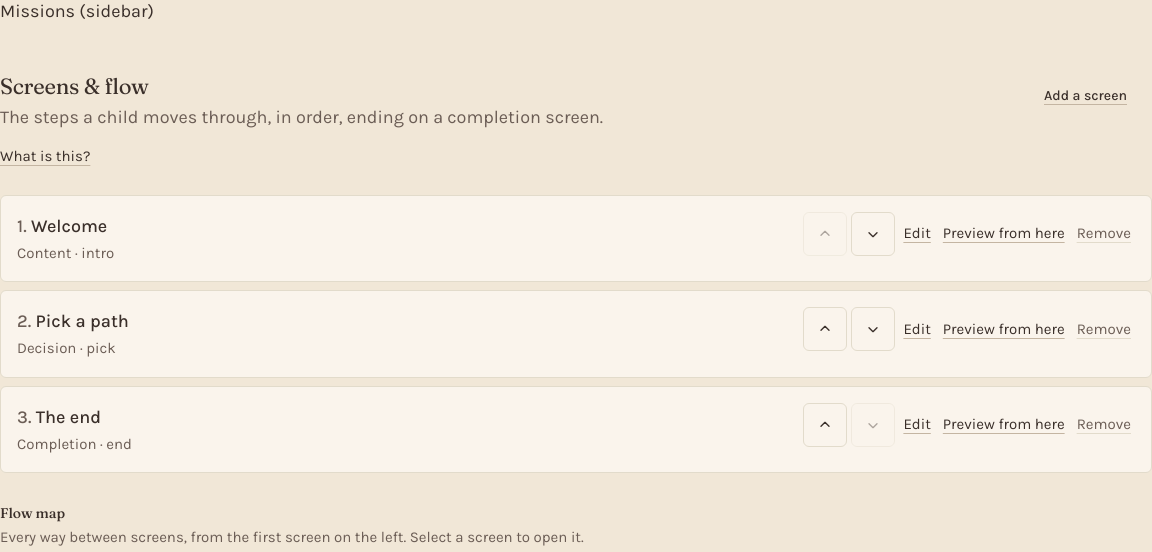
it: unsaved changes are never lost silently (D-118) › switching screens with an unsaved edit asks first, and Keep editing keeps it
The image size is (1152, 552).
Click the button "Edit" in the row of "intro": [917, 234] box top-left (899, 212), bottom-right (935, 256)
(page scrolled)
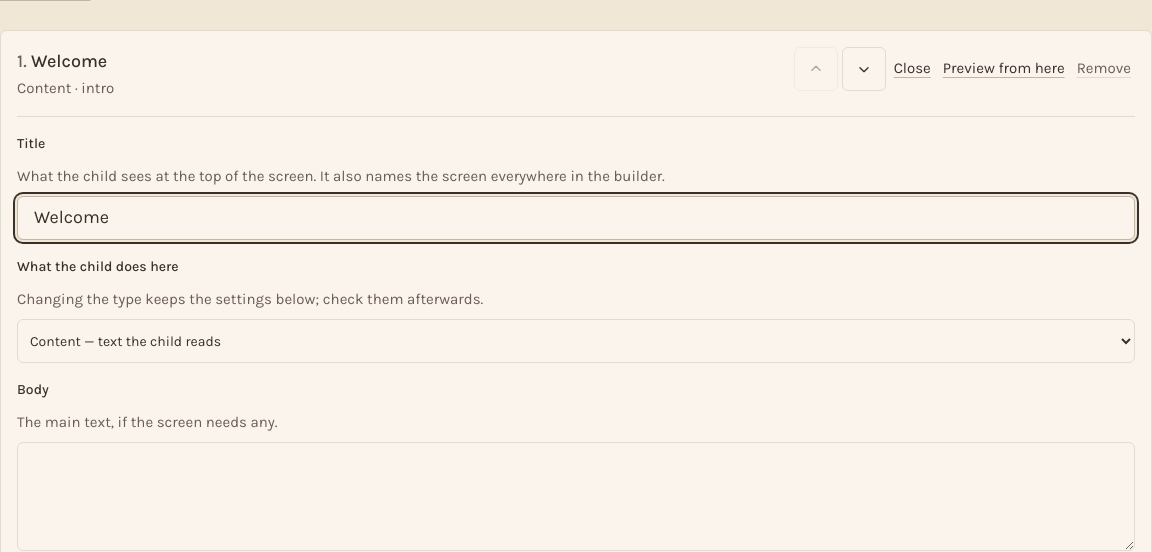
Replace the text in the field labelled "Title" with "Welcome, explorer": [576, 218] box top-left (17, 196), bottom-right (1135, 240)
(page scrolled)
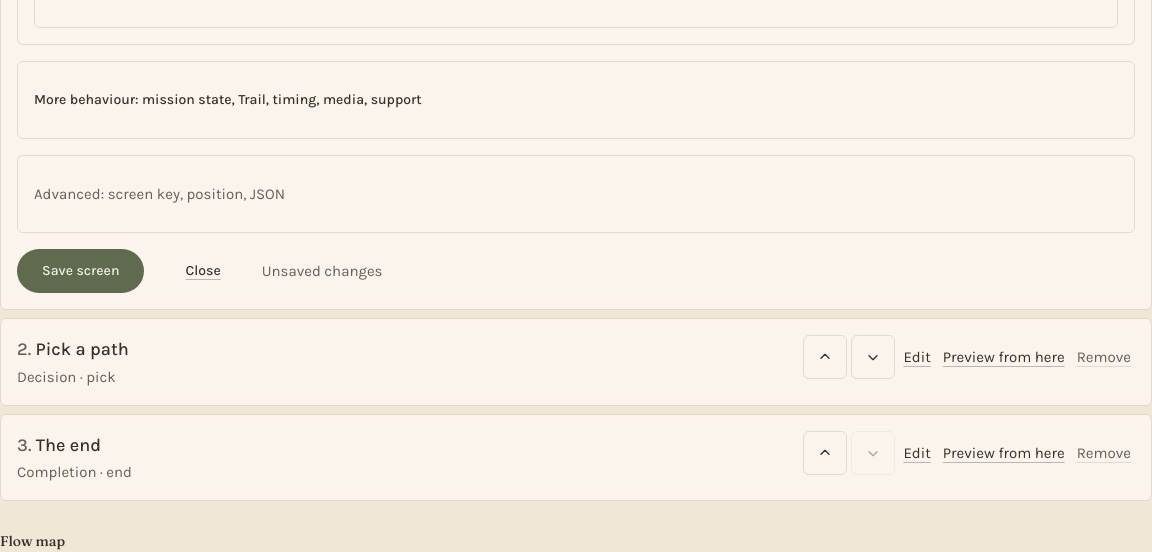
Result: the text "Unsaved changes" is shown at top-left (262, 259), bottom-right (382, 284)
Click the 1st button "Edit": [917, 357] box top-left (899, 335), bottom-right (935, 379)
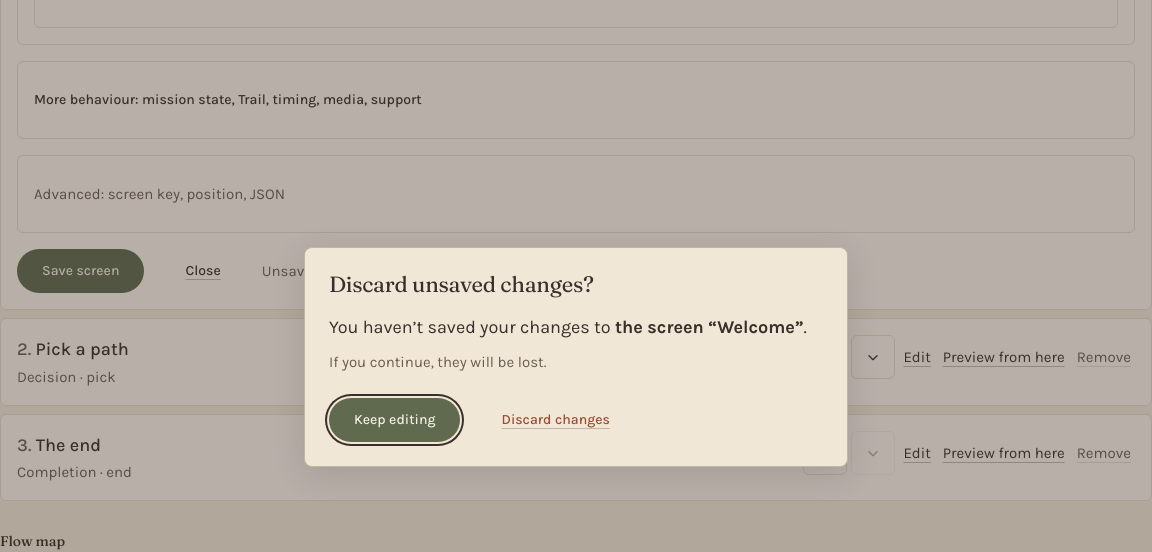
Result: the text "the screen “Welcome”" is shown at top-left (615, 316), bottom-right (804, 338)
Click the button "Keep editing": [395, 420] box top-left (329, 398), bottom-right (460, 442)
(page scrolled)
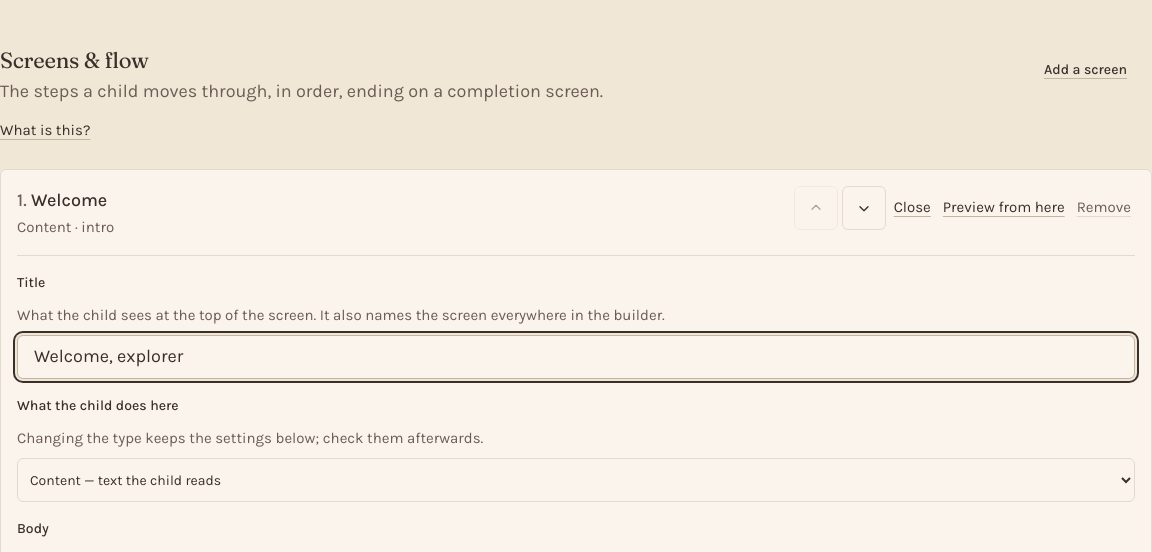
Result: the heading "Discard unsaved changes?" is gone
